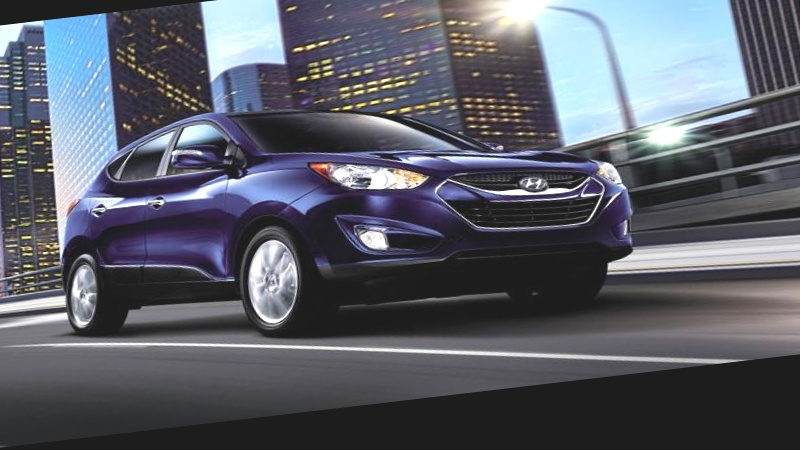car: (23, 48, 723, 374)
